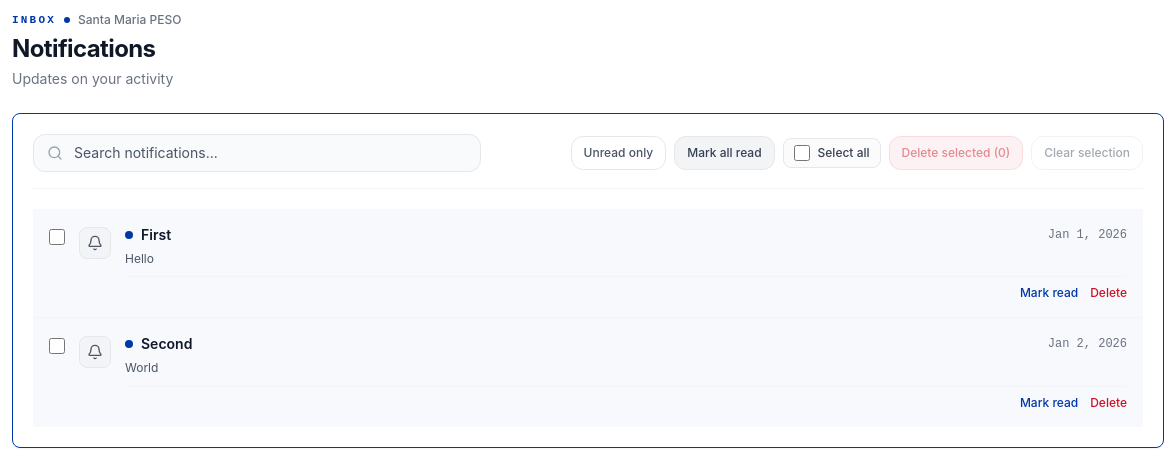
Test: NotificationsPage delete › Select all selects every row and enables Delete selected
The image size is (1164, 465).
Expected: the text "First" is shown, x1=141 y1=224 x2=171 y2=244
Click the checkbox named "Select all notifications".
click(802, 152)  # box x1=794 y1=144 x2=810 y2=160
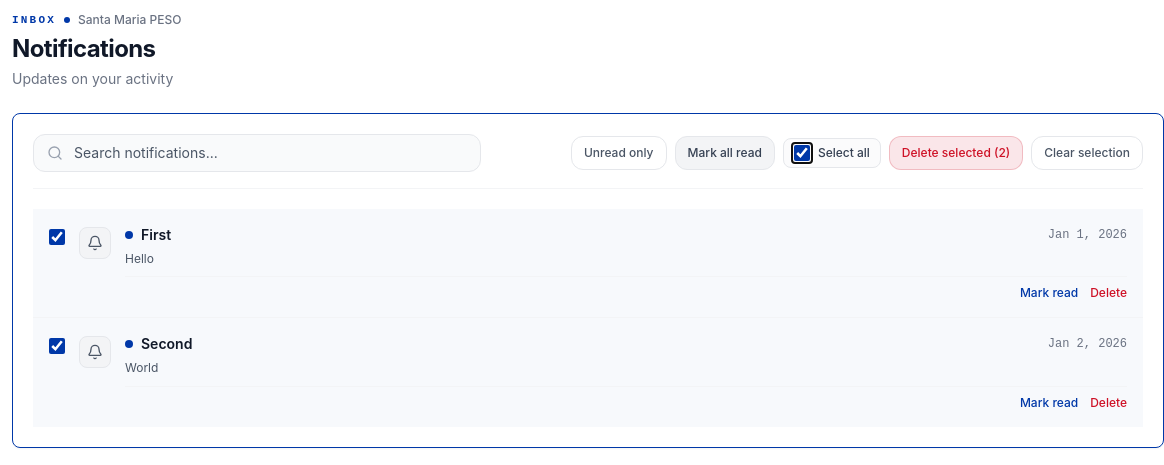
Now the checkbox named "Select notification First" is checked, box x1=49 y1=228 x2=65 y2=244
Now the checkbox named "Select notification Second" is checked, box x1=49 y1=338 x2=65 y2=354
Now the button "Delete selected (2)" is enabled, box x1=889 y1=136 x2=1023 y2=170
